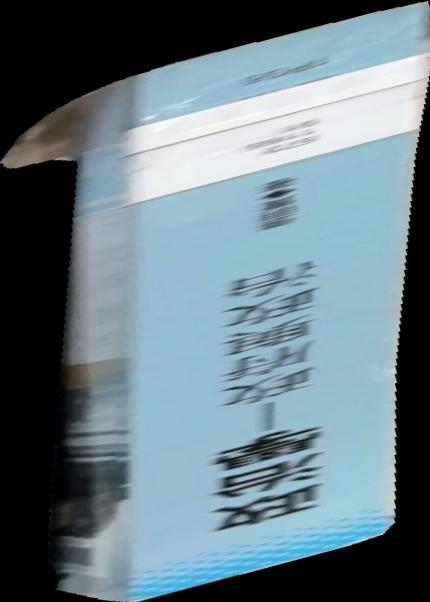reverse: (1, 1, 430, 602)
